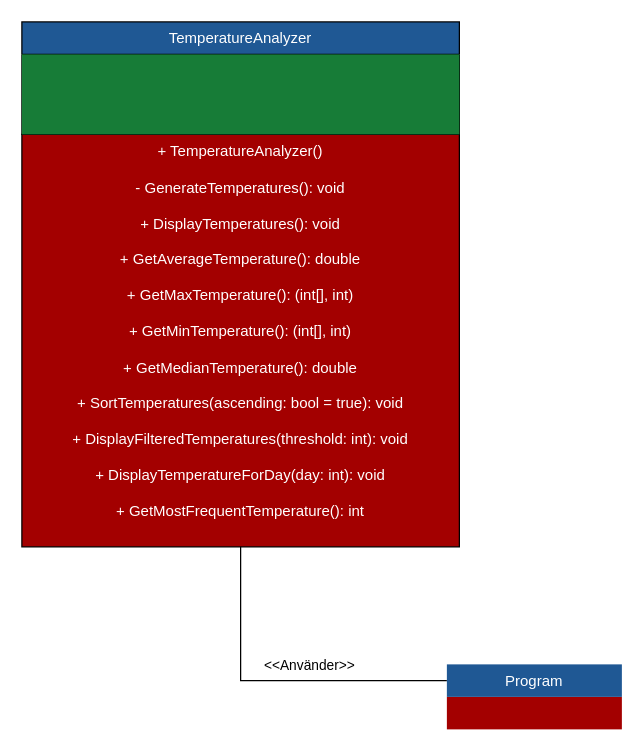
The diagram is 644 pixels wide and 755 high, and some of its shapes have lost their labels. The centre of each missing label's shape, as x and y in pixels:
"+ Main(): void" belongs at [533,712].
"- temperatures: int[] - random: Random" belongs at [240,94].
